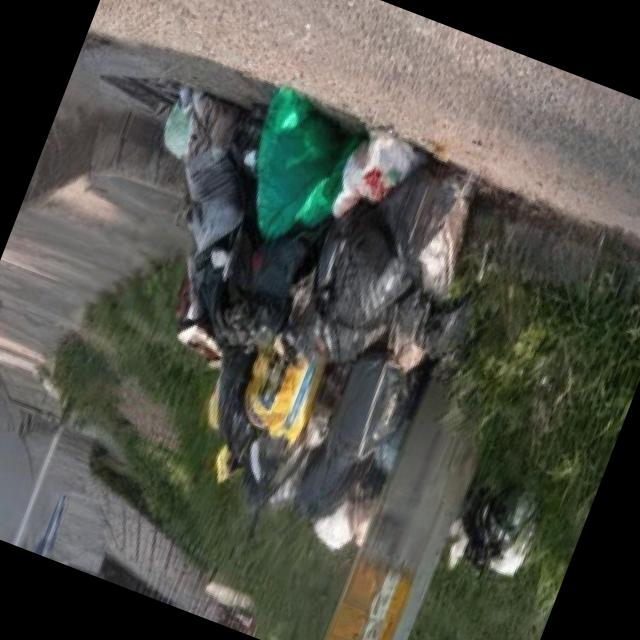high trash: (164, 89, 472, 549)
less trash: (447, 489, 536, 576)
